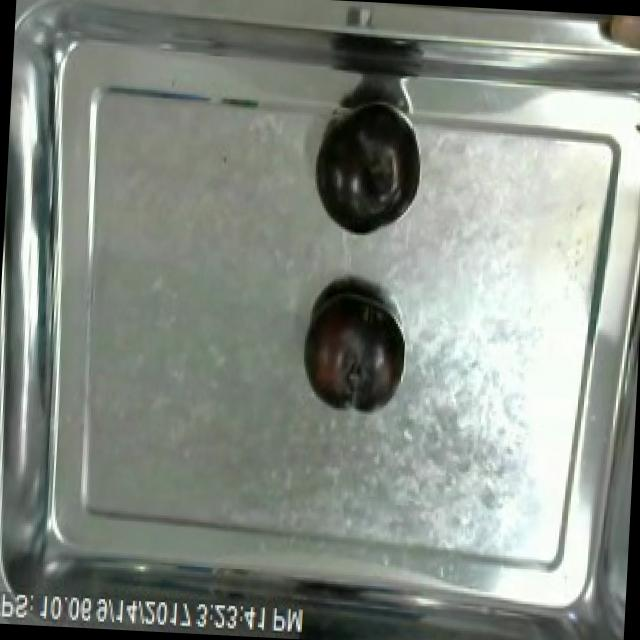Fruit: (295, 284, 406, 421), (310, 121, 414, 240), (597, 14, 640, 67)
